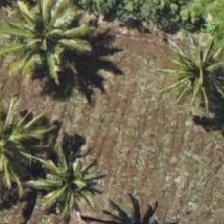coconut_tree: (19, 140, 109, 223), (0, 0, 88, 80), (158, 25, 223, 115), (0, 102, 45, 192)
